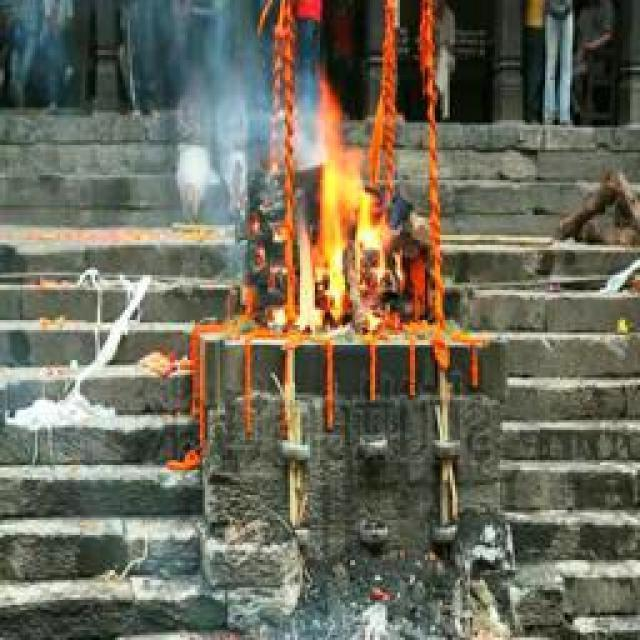Fire: (285, 94, 387, 333)
